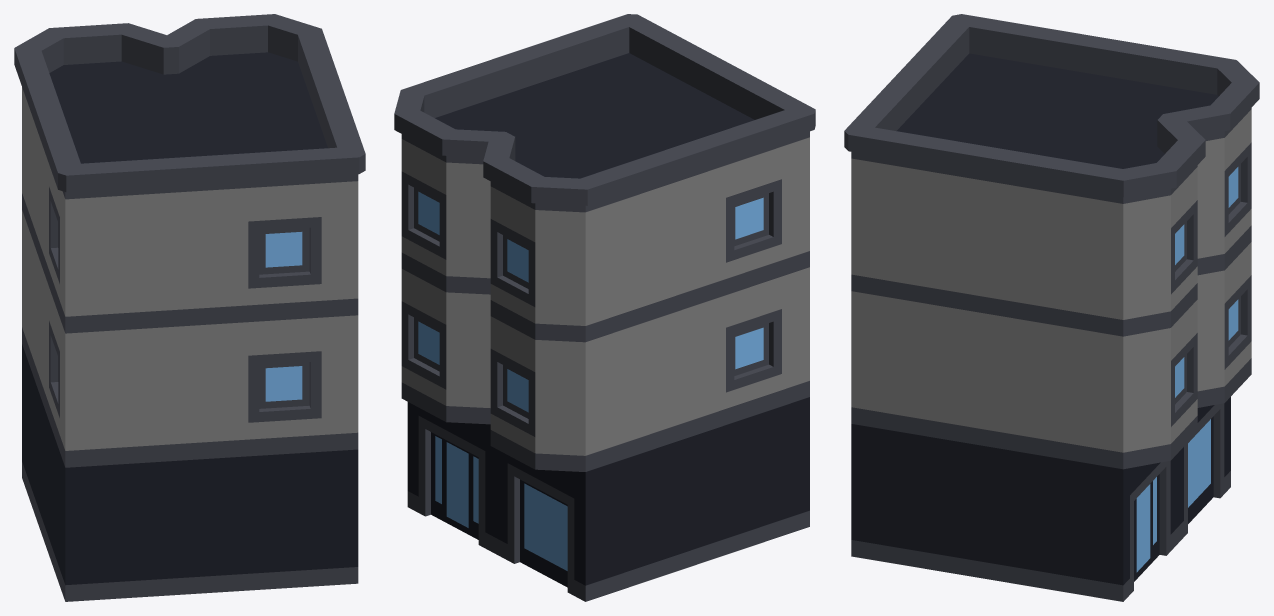
File: variant_47.obj
3 views of the same model, side by side, from view 1: azimuth 30°, elevation 25°; view 2: azimuth 150°, elevation 25°; view 3: azimuth 270°, elevation 25° (orthographic). The views are drawn at different scales.
Parts seen in each view (by area): view 1: Building; view 2: Building; view 3: Building.
Boxes of the visible parts, x1=… form: Building: x1=14, y1=14, x2=365, y2=601; Building: x1=394, y1=14, x2=815, y2=601; Building: x1=844, y1=14, x2=1259, y2=601.
Size of the model in its own units: 1.08 by 1.28 by 1.13.
